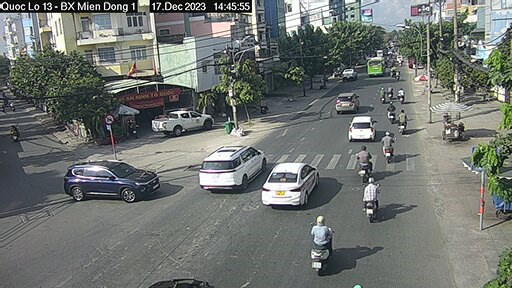bus: (366, 56, 389, 74)
car: (56, 159, 162, 199), (197, 138, 255, 194), (257, 158, 316, 207), (149, 110, 215, 132), (346, 117, 378, 146), (332, 90, 364, 117)
motorbike: (306, 212, 337, 276), (361, 176, 384, 214), (352, 148, 372, 177), (384, 131, 396, 159)
